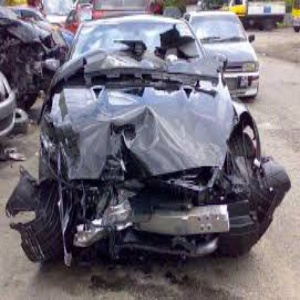bonnet: (49, 87, 231, 167)
bumper: (13, 172, 275, 266)
front_windshield_glass: (82, 21, 202, 70)
